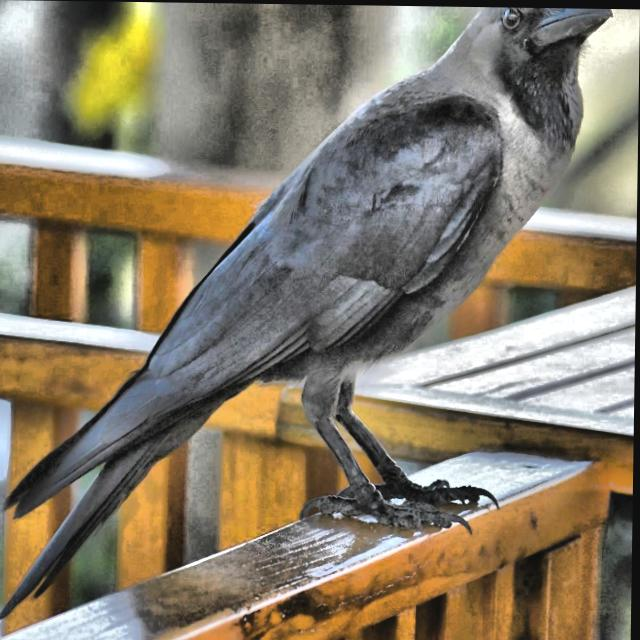crow: (7, 0, 622, 610)
